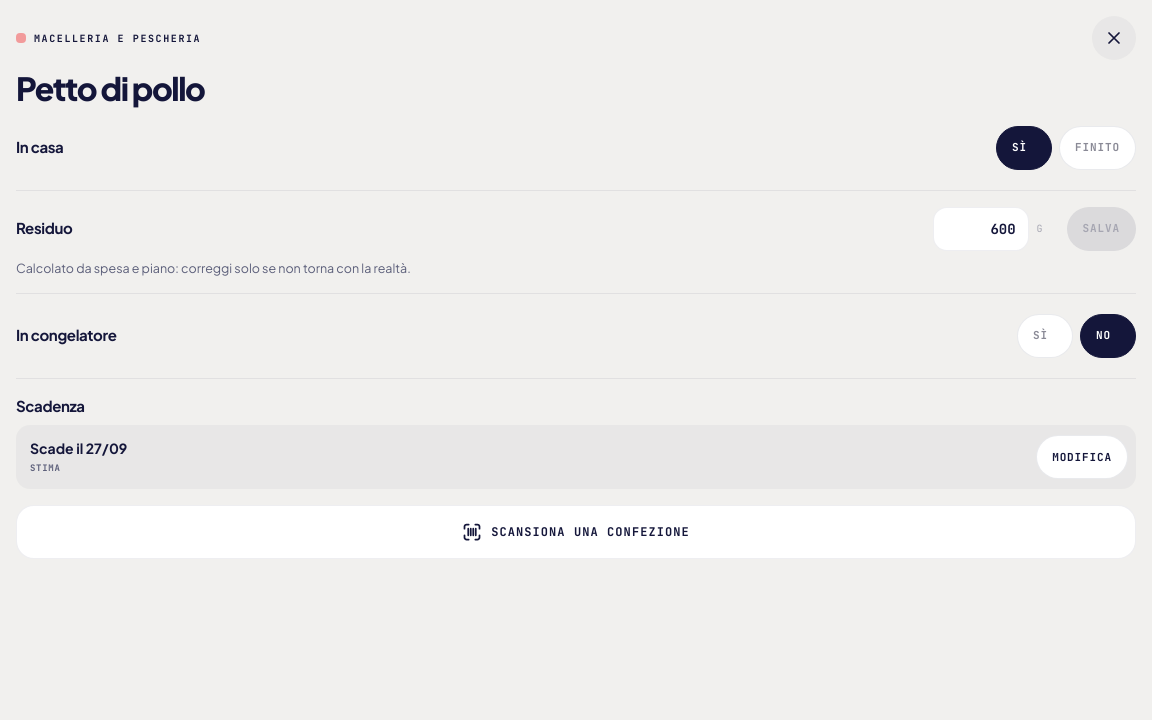
Test: DettaglioIngrediente › Residuo › scritto abc e SALVA riporta il campo a 600 senza chiamare niente
Replace the text in the field named "Residuo di Petto di pollo" with "abc" at (981, 229), box [933,207,1029,251]
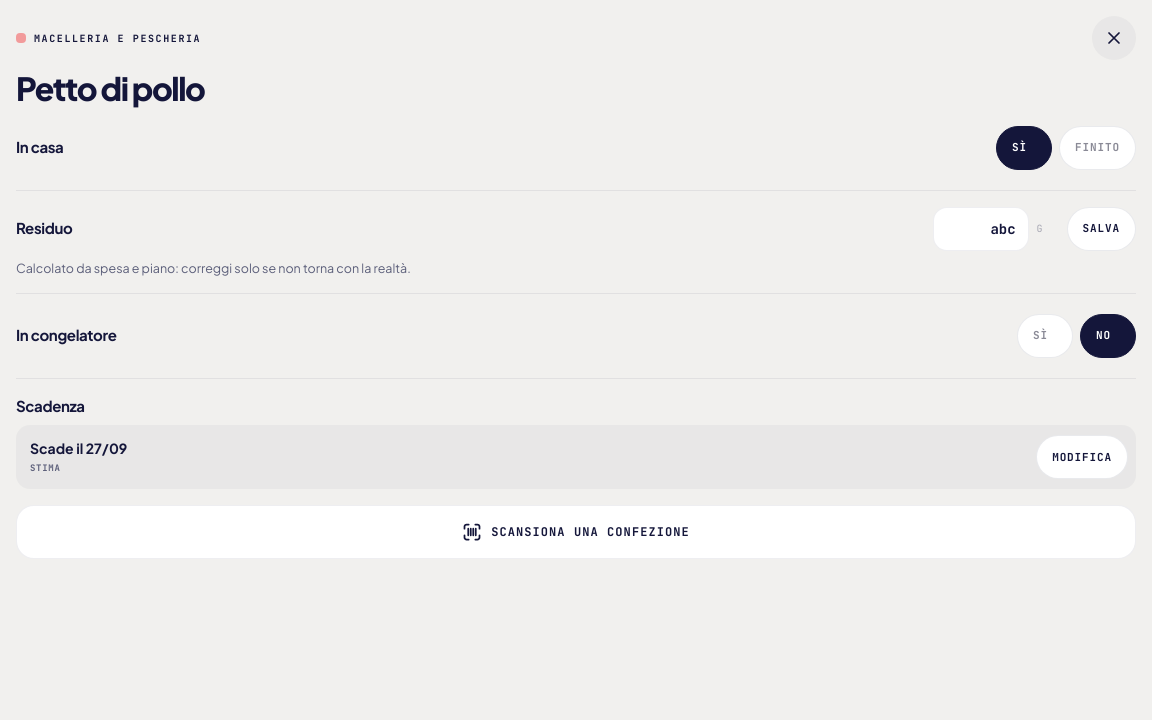
Click the button "SALVA" at (1101, 229), box [1067,207,1136,251]
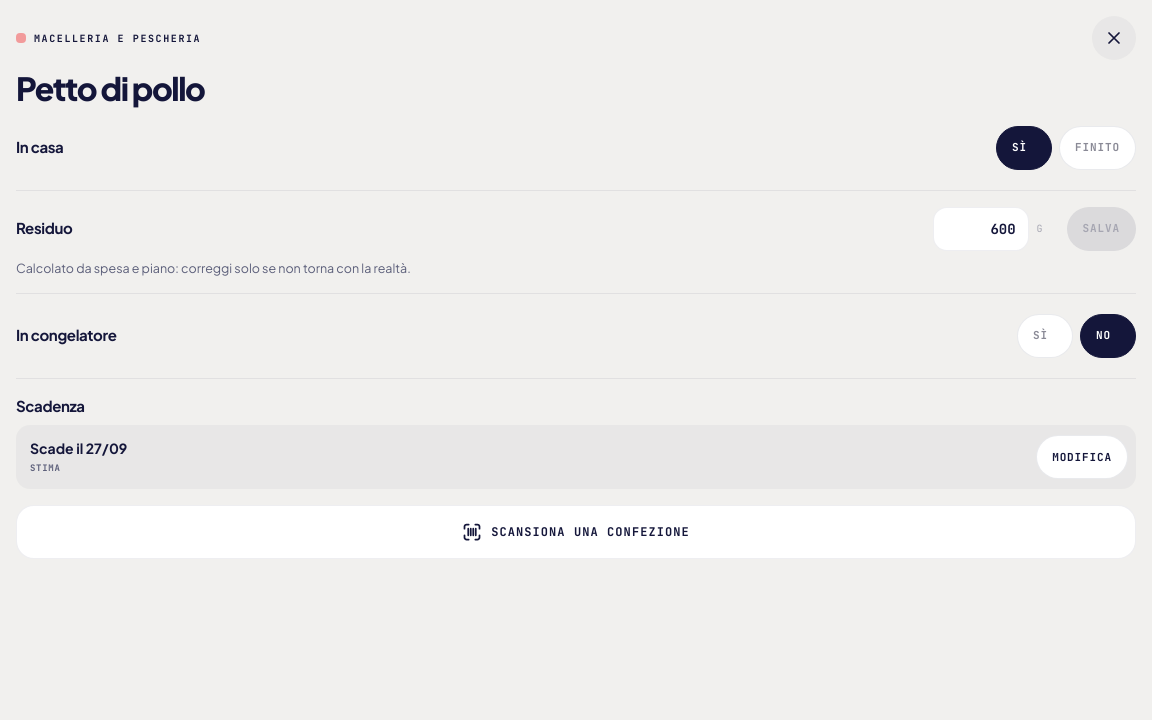
Result: the field named "Residuo di Petto di pollo" holds "600" at [933,207,1029,251]
